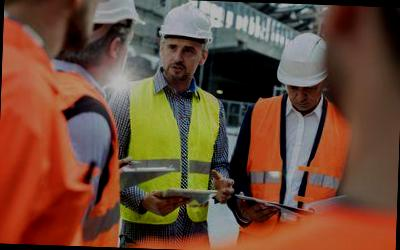helmet: (272, 30, 336, 88), (159, 2, 216, 38)
person: (109, 1, 229, 247), (232, 15, 352, 234)
